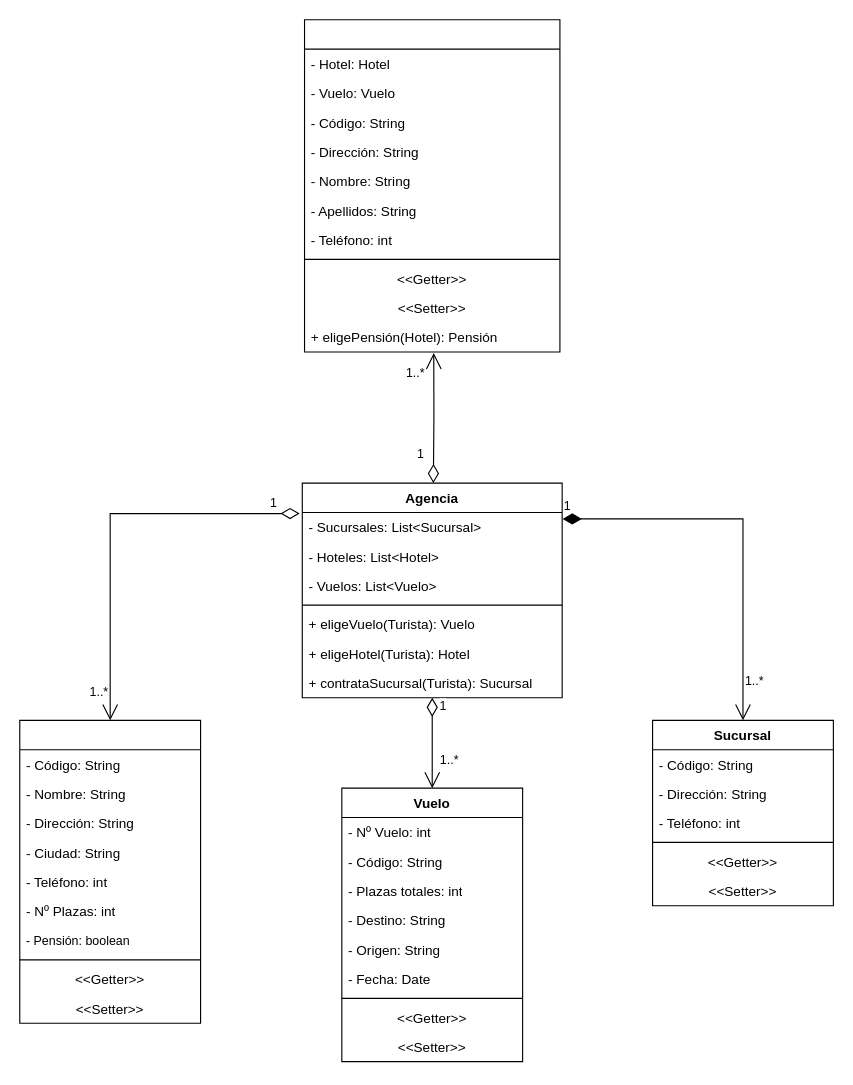
The diagram is 853 pixels wide and 1085 high, and some of its shapes have lost their labels. The shapes that lost their labels are listed below. From the top down, each one's box as (x1, y1, x2, y2) in pixels, then its label:
(303, 19, 560, 352): Turista
(19, 719, 201, 1023): Hotel
